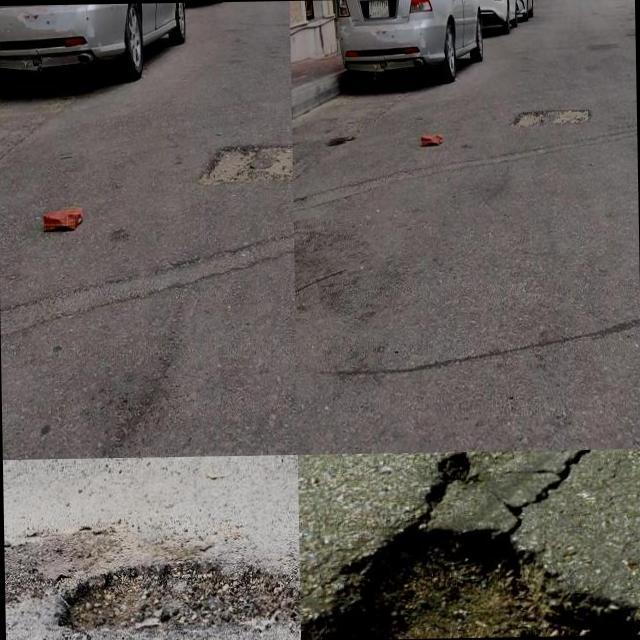Pothole: (300, 528, 638, 640), (56, 564, 296, 634), (209, 143, 293, 182), (510, 107, 590, 127)
